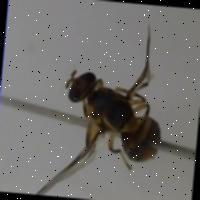Oriental-fruit-fly: (22, 7, 180, 200)
